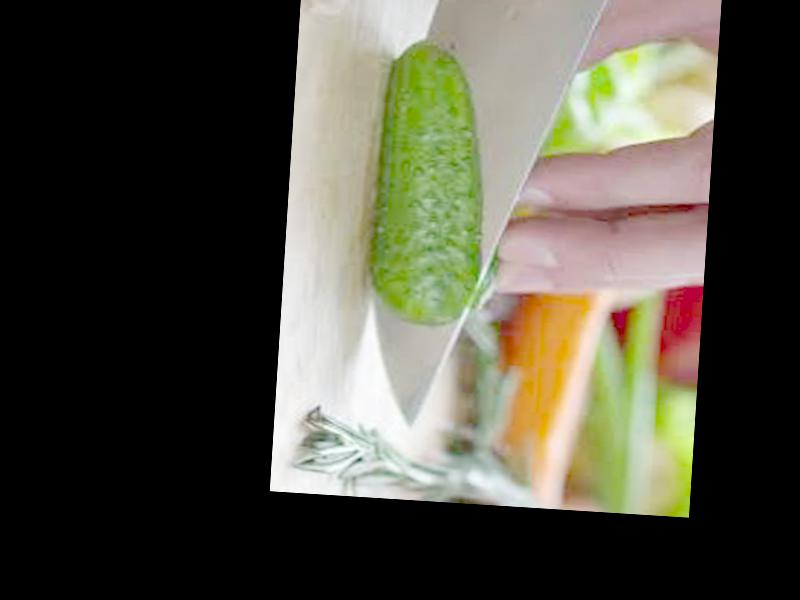Cucumber: (362, 40, 495, 330)
